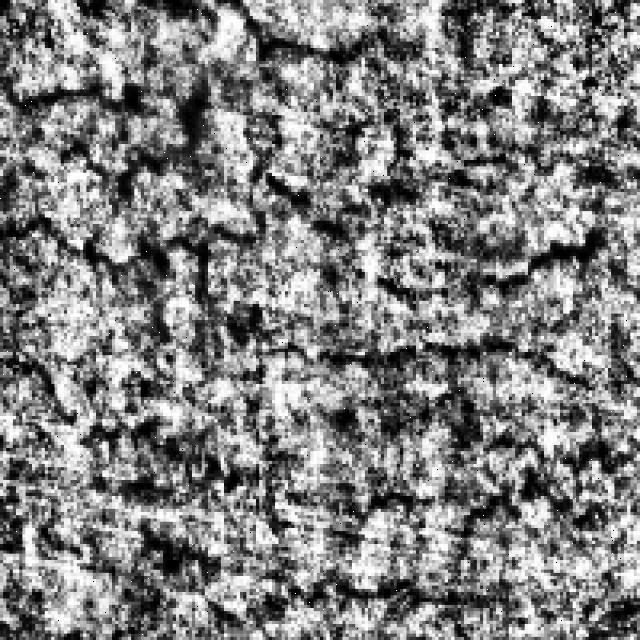Pitted_Surface: (10, 64, 640, 384), (61, 467, 624, 608)
